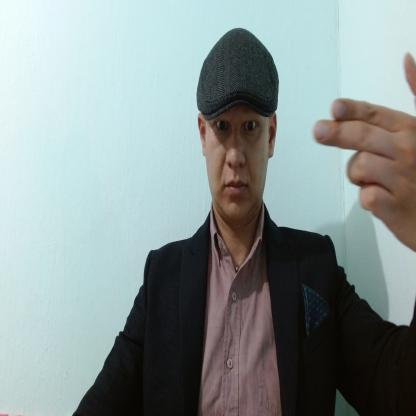H: (314, 50, 415, 254)
